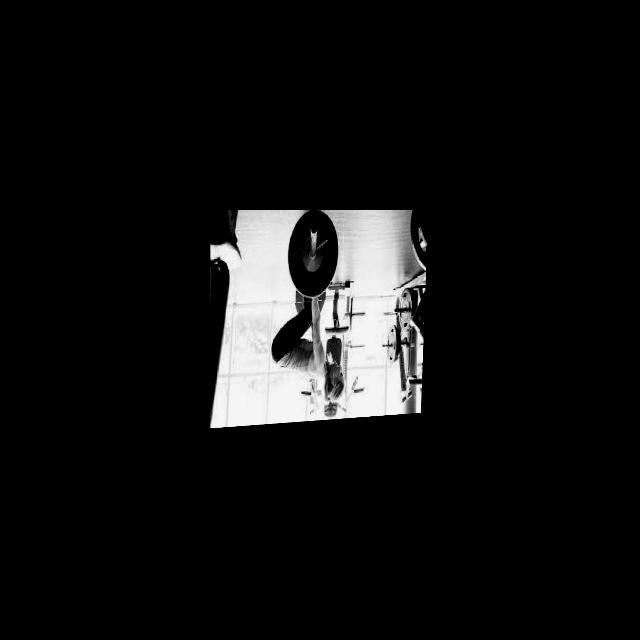barbell: (283, 210, 345, 305)
